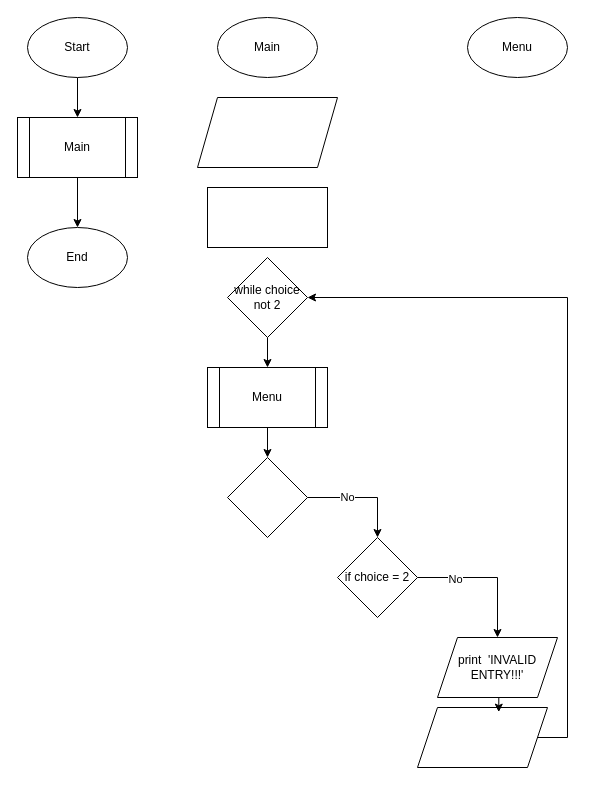
Some shapes in this 593 by 785 pixel diagram are drawn without their labels. The shapes that lost their labels are listed below. From the top down, each one's centre as x and y in pixels, then its label:
the point at 267,132: Print"Welcome to the Secret Code Cracker!"
the point at 267,217: set choice to 1
the point at 267,497: if choice = 1
the point at 482,737: print Choose from menu options please
